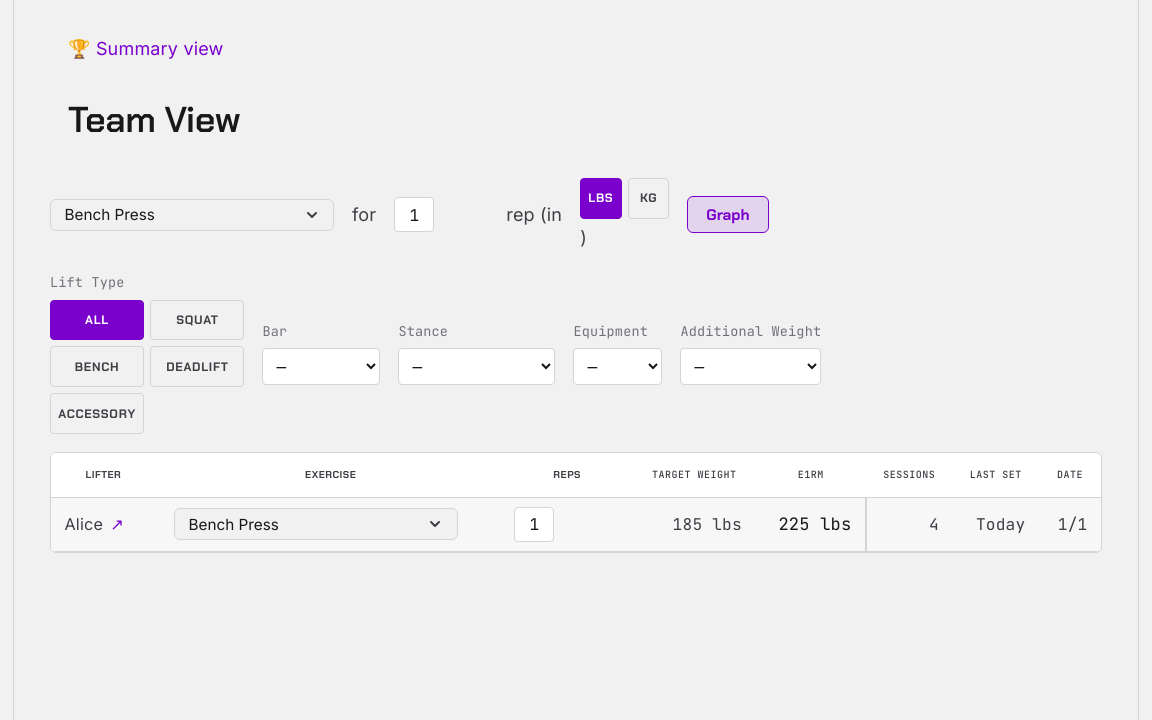
Test case: TeamViewPage › clicking a reps input opens the effort popover
Click the number field named "Reps: 1. Activate to set RPE or percentage" in the row of "Alice".
click(534, 524)  # box [514,507,554,542]
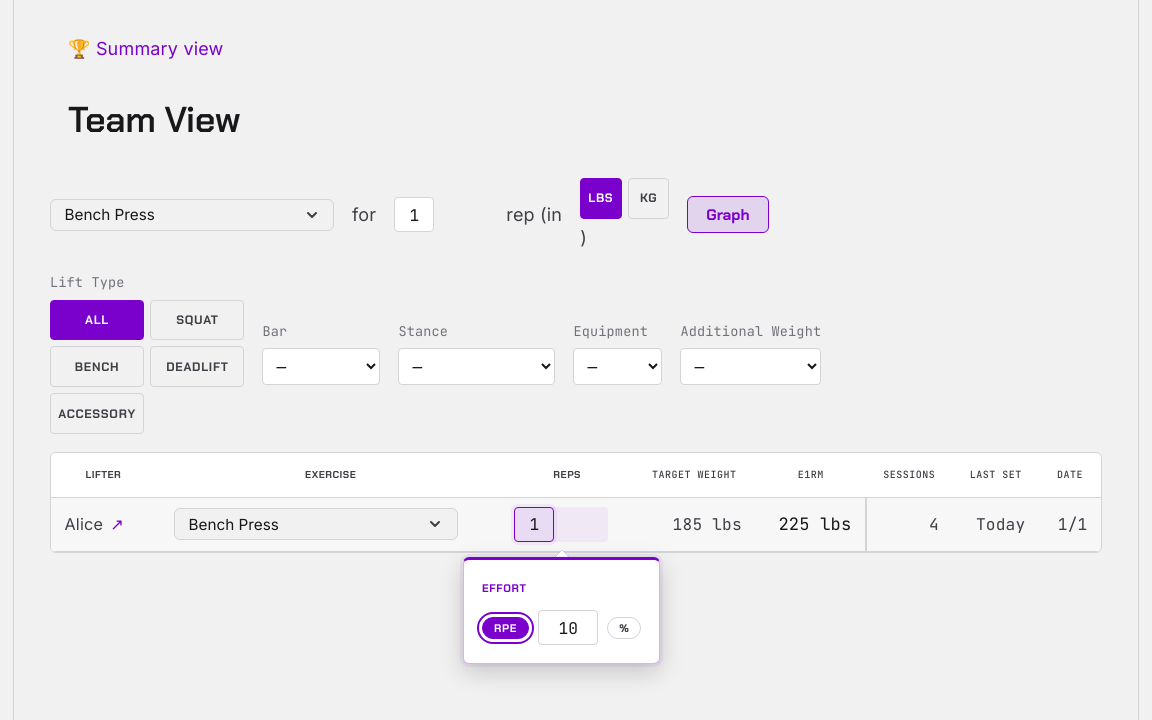
Now the button "RPE" is shown, box [482,617,529,639]
Now the button "%" is shown, box [607,617,642,639]
